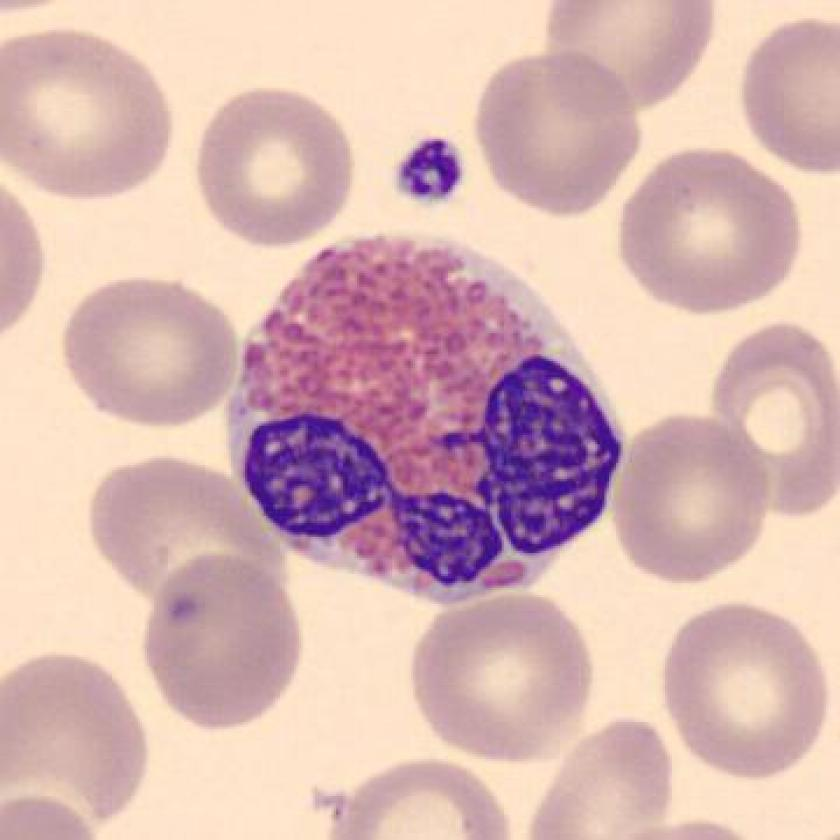eosinophil: (220, 221, 636, 616)
